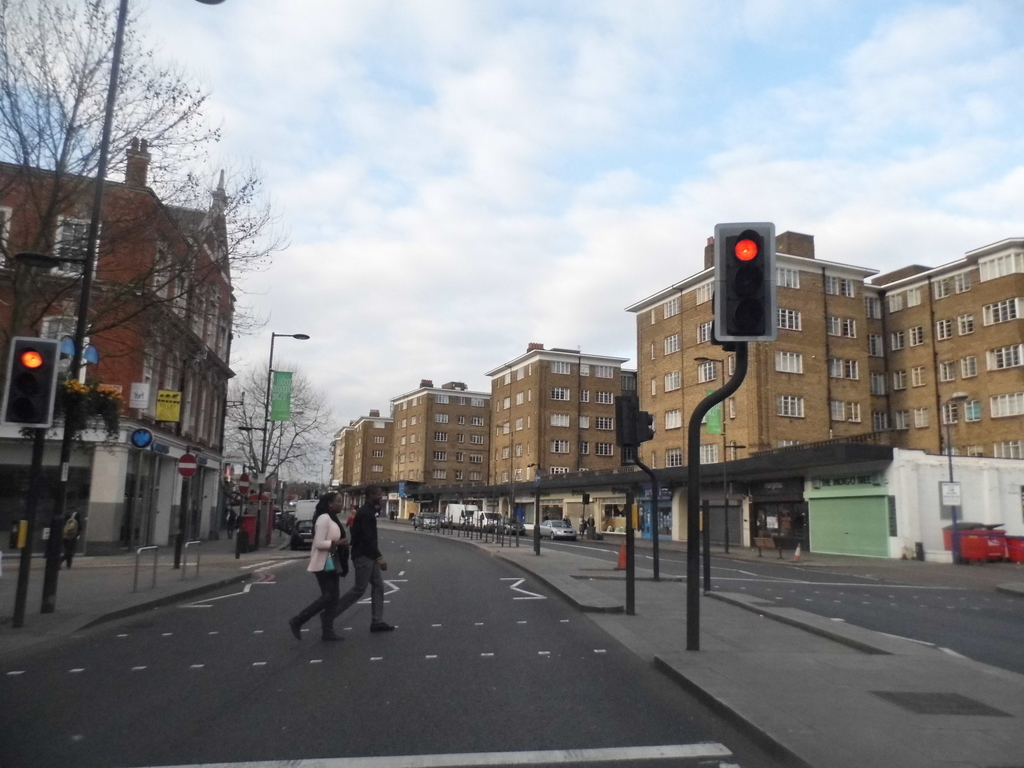red_light: (731, 234, 763, 264), (17, 348, 44, 371)
stop: (174, 454, 199, 474)
